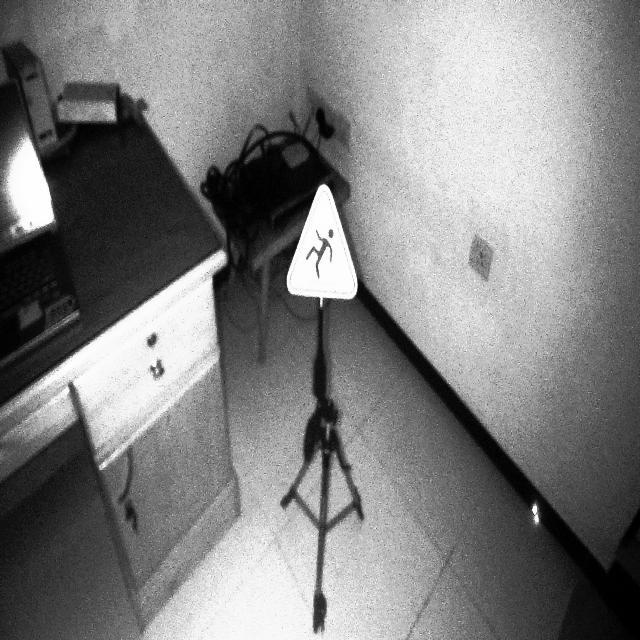Sign: (285, 182, 359, 302)
